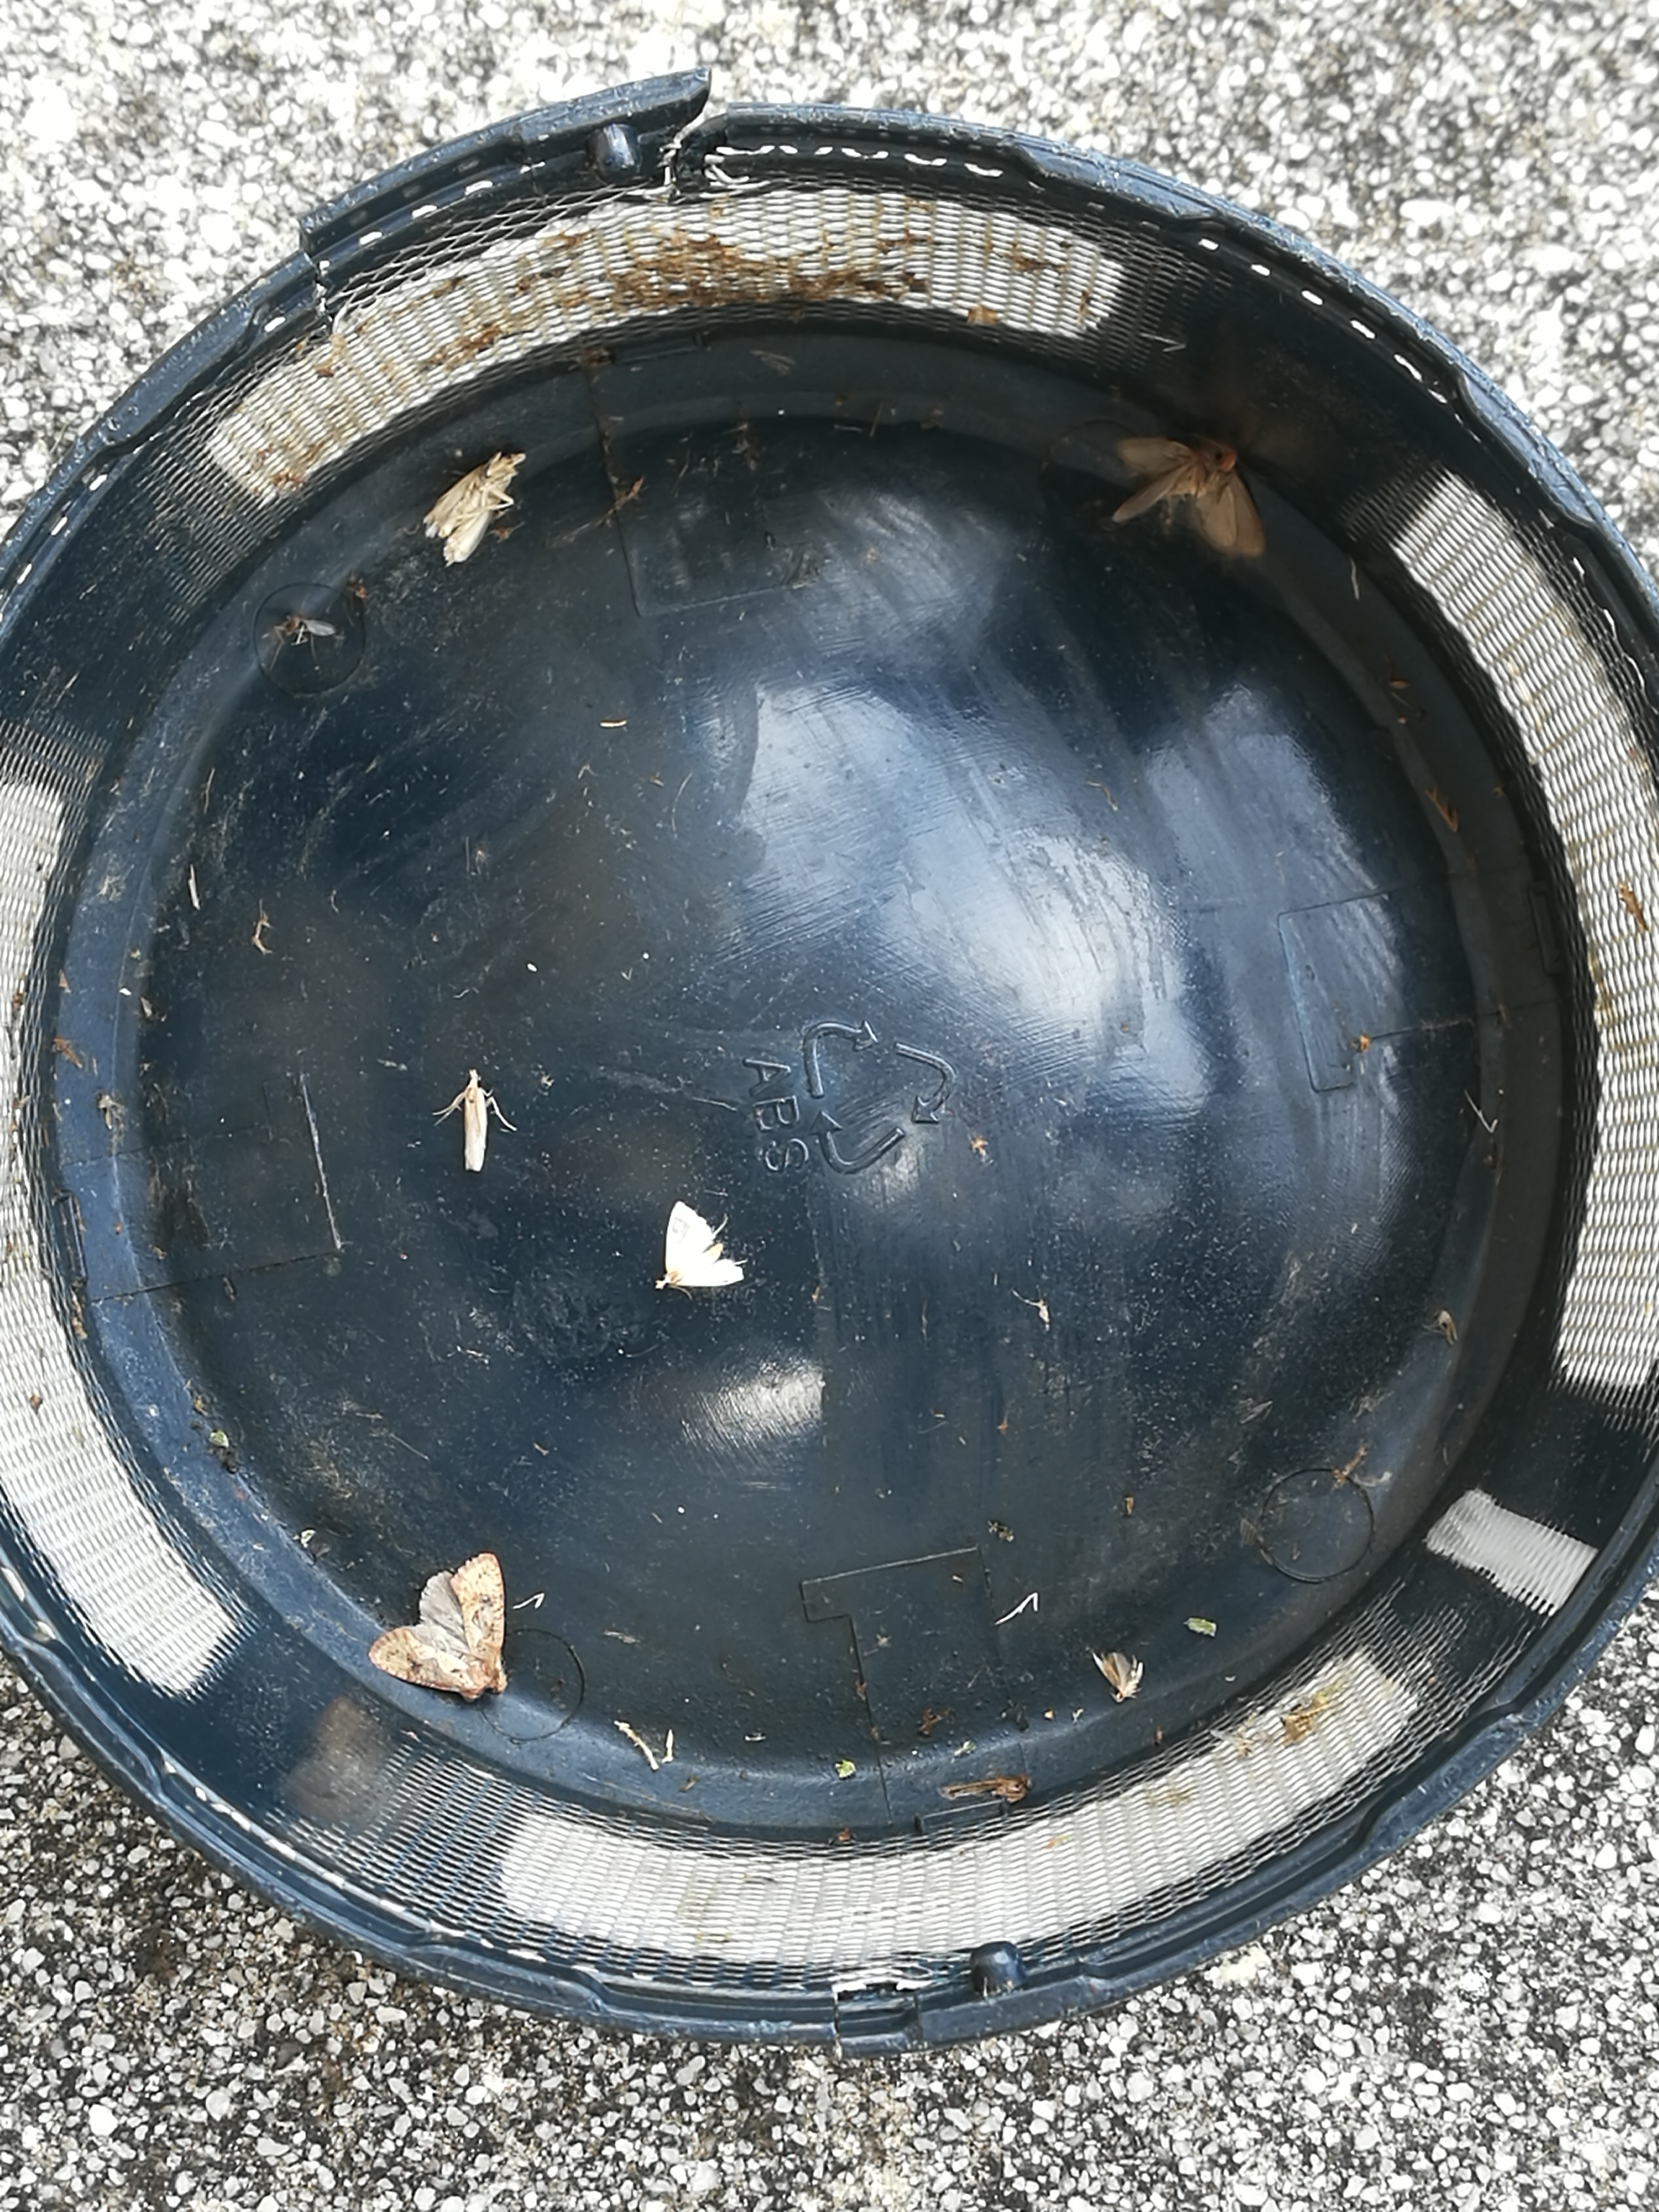mosquito: (465, 1071, 488, 1170), (284, 618, 338, 636)
moth: (368, 1554, 505, 1703), (1114, 437, 1267, 559), (425, 449, 525, 563), (655, 1200, 742, 1291), (1087, 1648, 1143, 1700)
